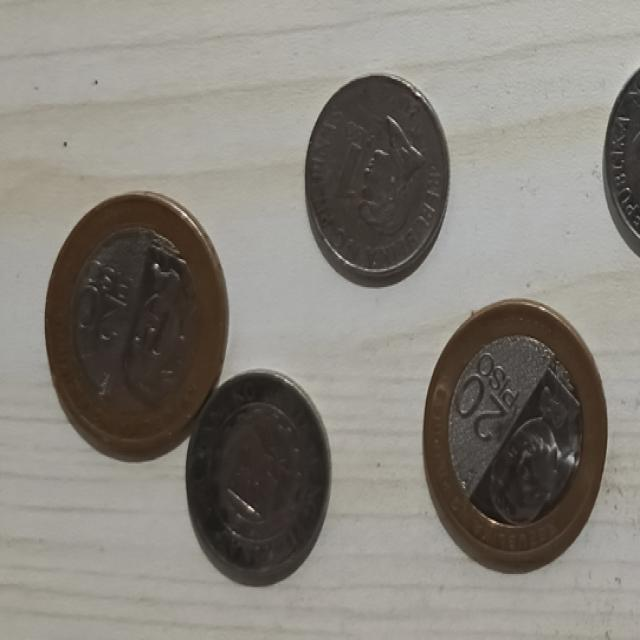1_peso: (187, 371, 329, 584), (305, 74, 448, 280)
20_peso: (424, 300, 607, 571), (46, 195, 227, 459)
